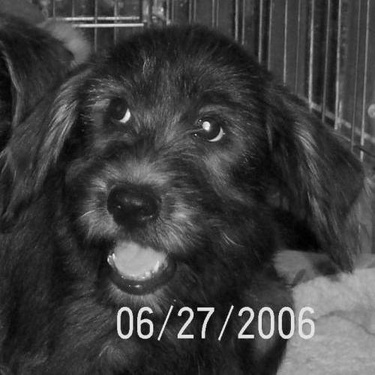dog: (1, 25, 368, 371), (1, 8, 94, 158)
